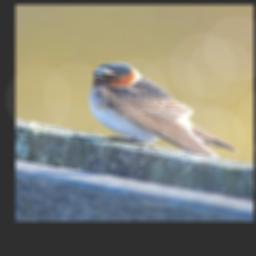Swallow: (87, 62, 238, 161)
